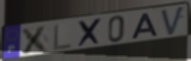0: (107, 14, 128, 44)
A: (130, 12, 159, 41)
L: (52, 23, 73, 52)
V: (159, 5, 186, 38)
X: (20, 24, 51, 56), (77, 17, 104, 49)
